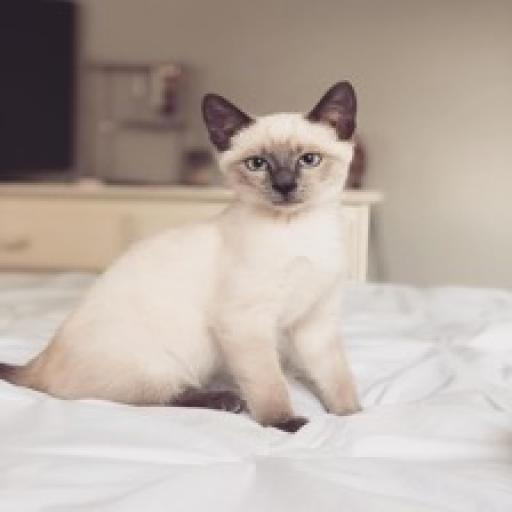cat: (0, 64, 389, 430)
